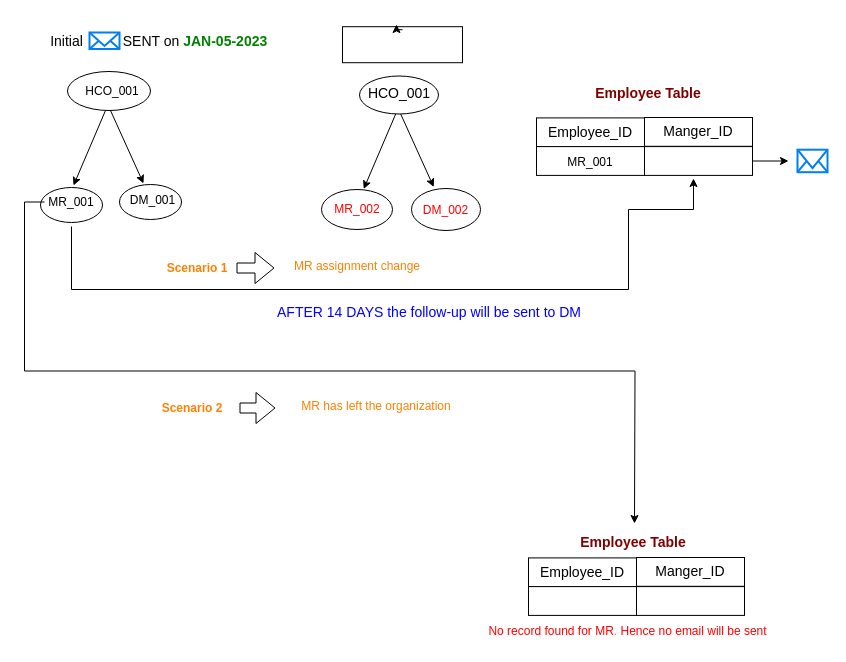
Some shapes in this 846 by 662 pixel diagram are drawn without their labels. The centre of each missing label's shape, as x and y in pixels:
"DM_003" goes at pixel 698 160.
"During 14 days" goes at pixel 402 44.
